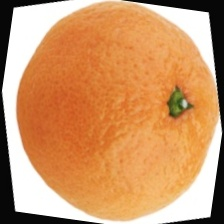orange: (52, 37, 203, 176)
